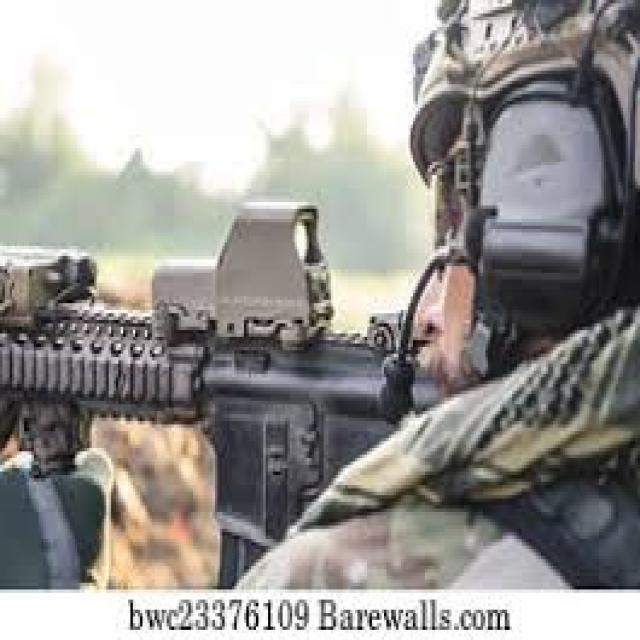soldier: (3, 8, 640, 593)
